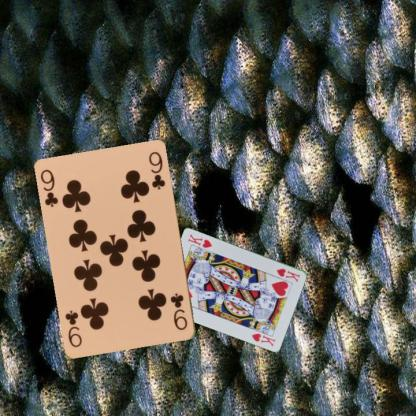9c: (38, 166, 60, 209), (167, 290, 189, 332)
Kh: (274, 266, 301, 283)
